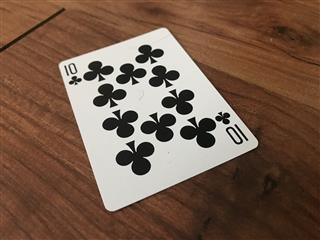TenOfClubs: (56, 26, 259, 212)
